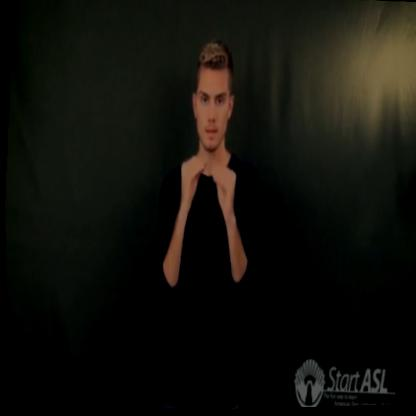Fix: (172, 149, 241, 227)
